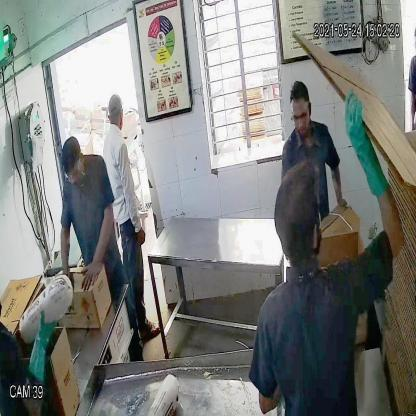goggles: (60, 158, 83, 182), (288, 110, 313, 128)
